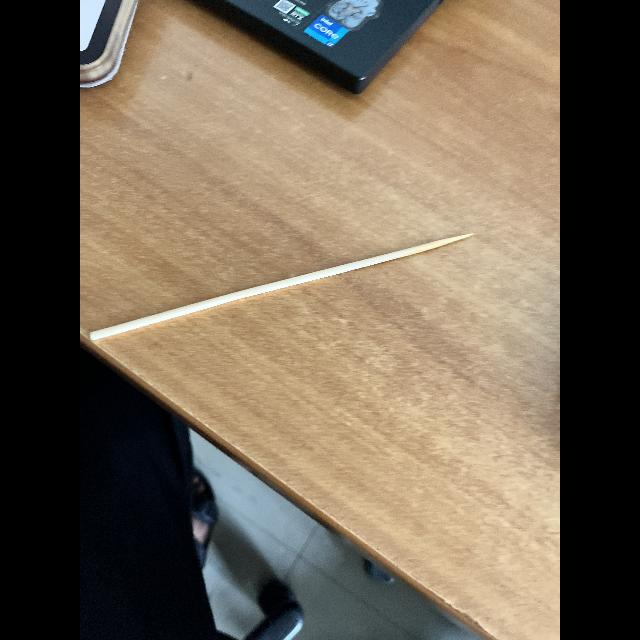stick: (83, 215, 483, 365)
